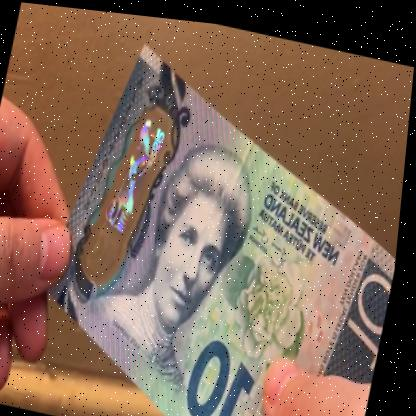10B: (89, 100, 176, 277)
